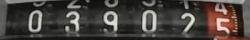digits: (212, 1, 232, 39), (139, 0, 158, 35), (101, 0, 120, 35), (64, 0, 81, 33), (28, 9, 42, 32), (180, 12, 195, 32)
